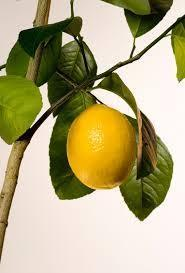lemon: (66, 103, 136, 190)
